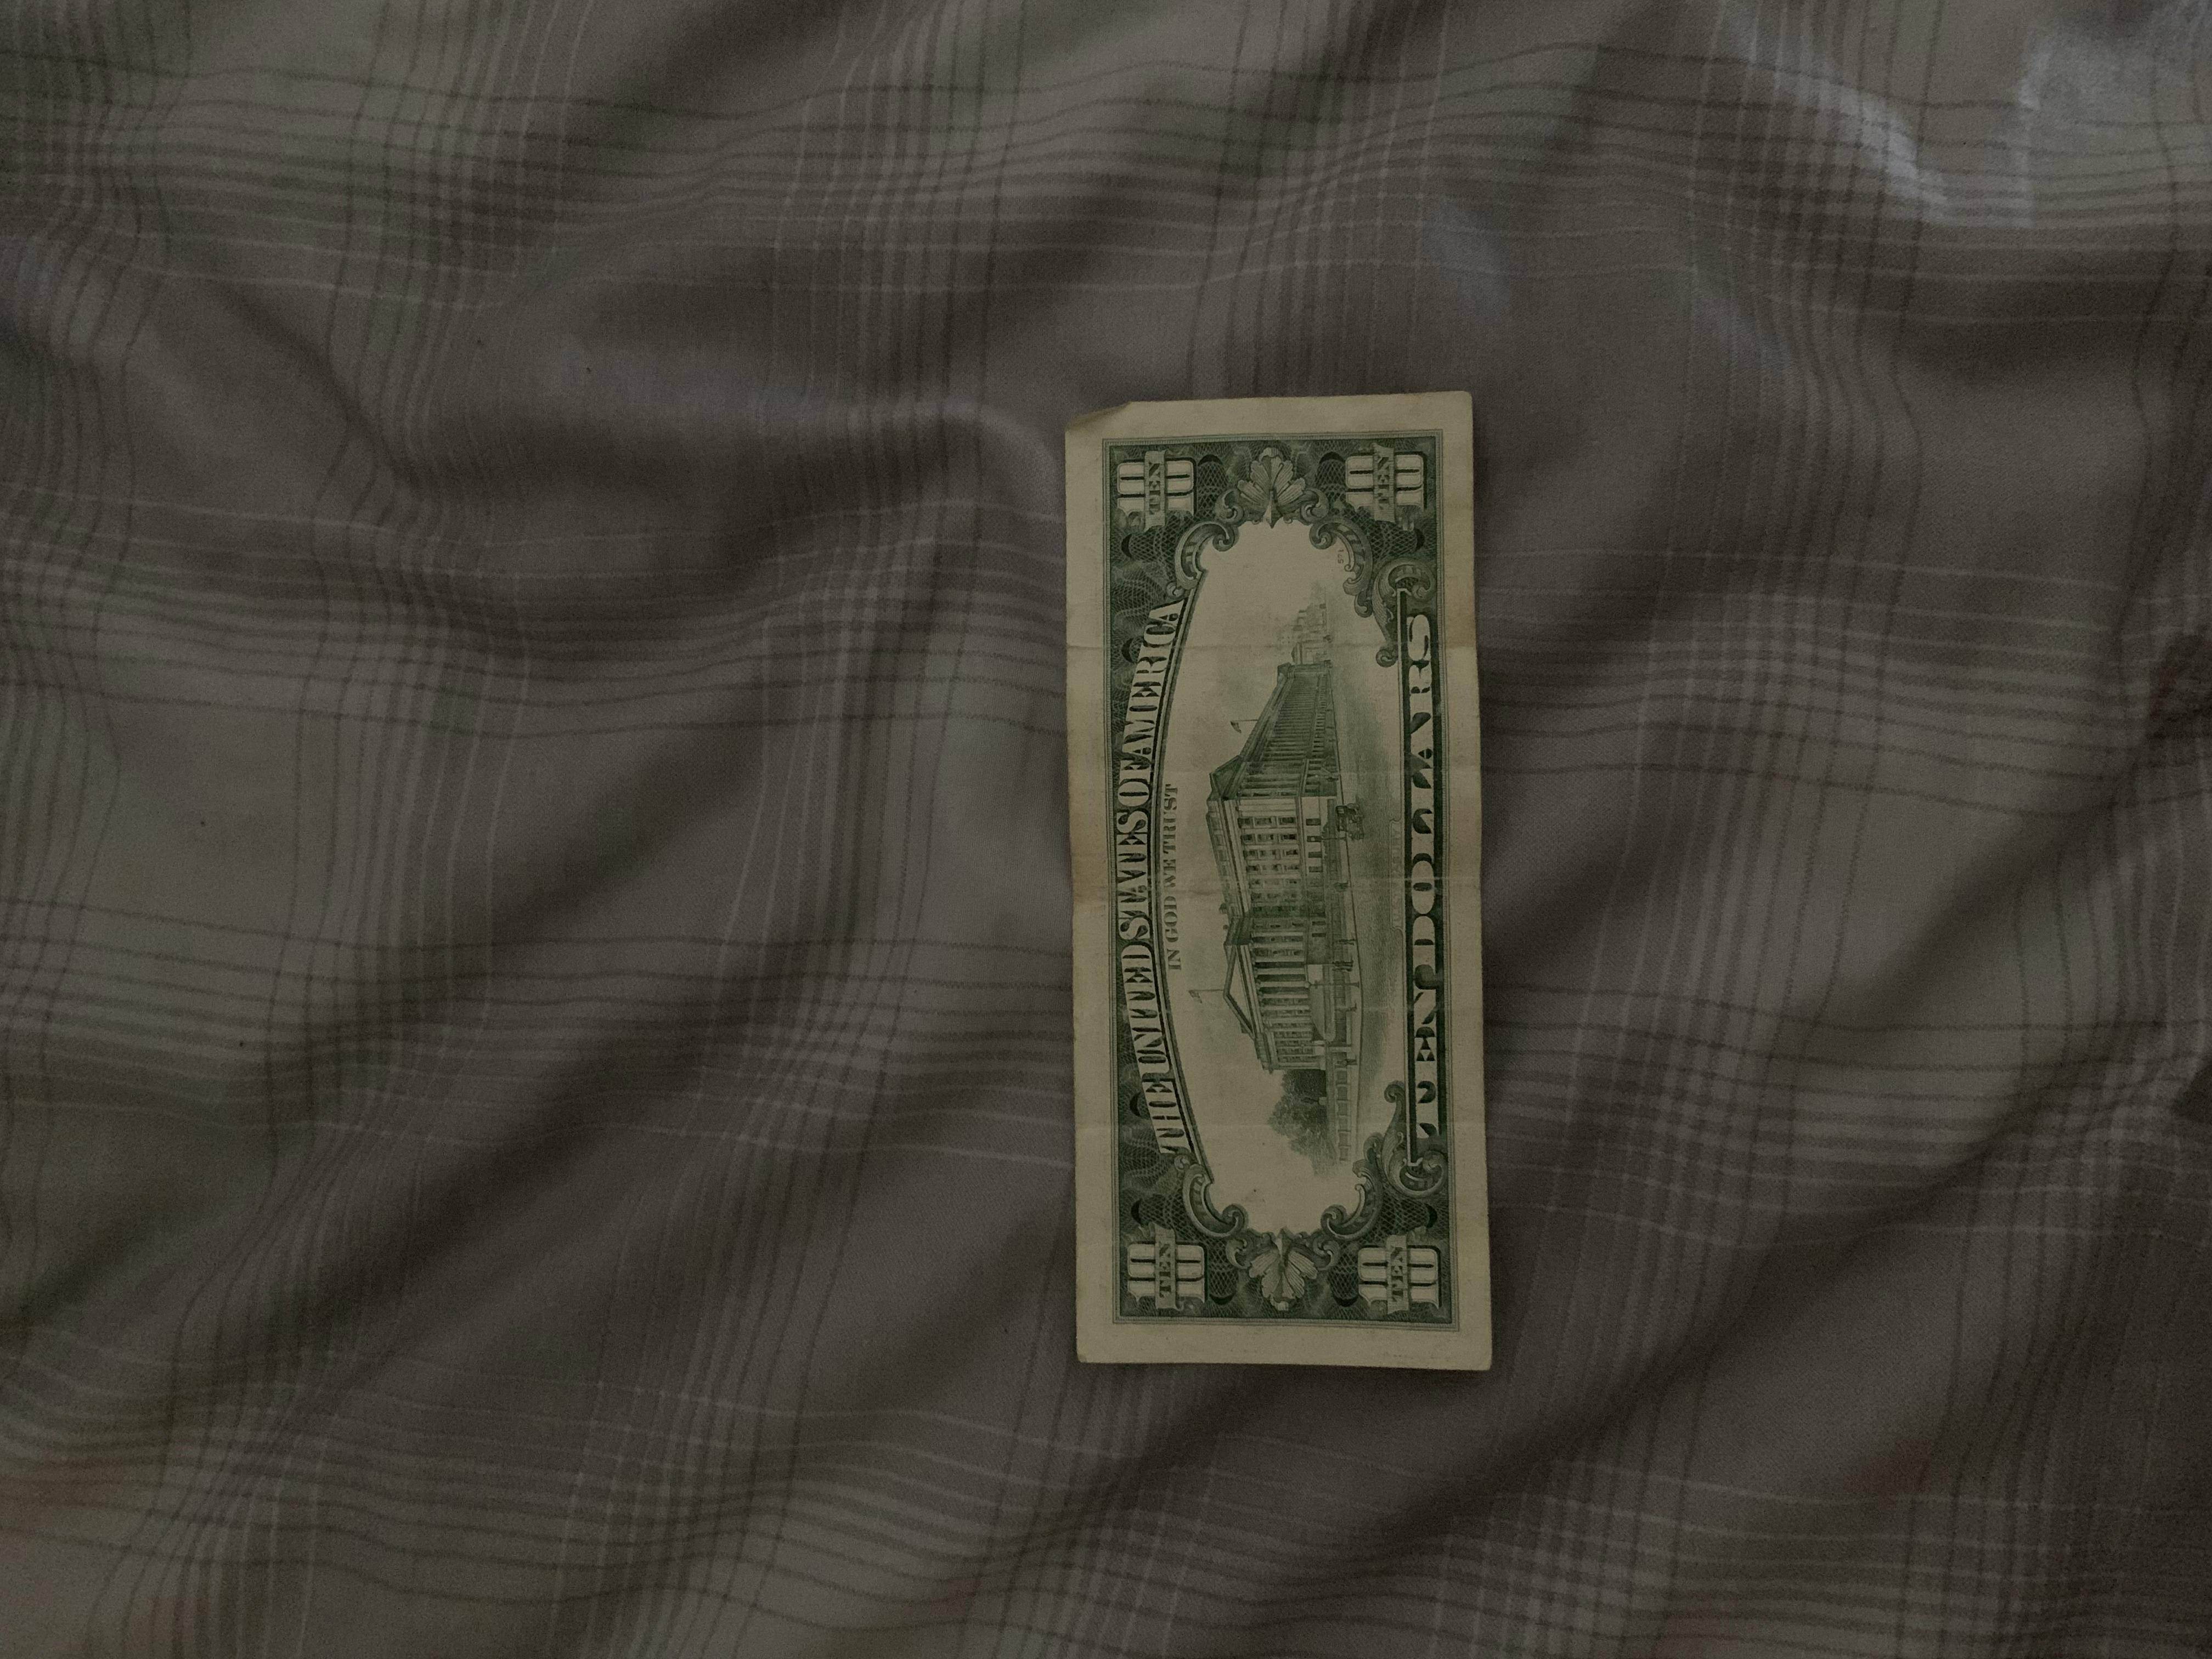TenBill: (1043, 390, 1498, 1373)
